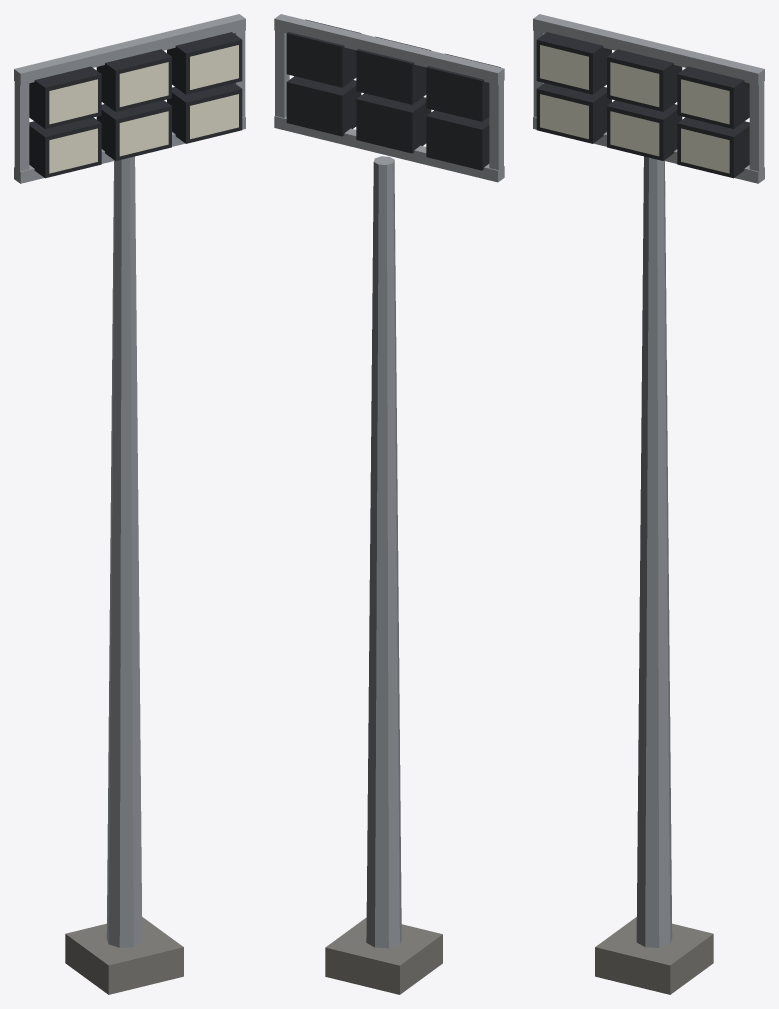
Rendered from light.glb.
The picture shows the model from 3 angles, left to right: view 1: azimuth 30°, elevation 25°; view 2: azimuth 150°, elevation 25°; view 3: azimuth 330°, elevation 25°; orthographic projection.
Parts seen in each view (by area): view 1: light; view 2: light; view 3: light.
Part boxes in pixels (box(x1,y1,x2,y2)): light: box(14, 14, 245, 994); light: box(274, 14, 504, 994); light: box(533, 14, 764, 994).
Size of the model in its own units: 2.4 by 9.46 by 0.8.
